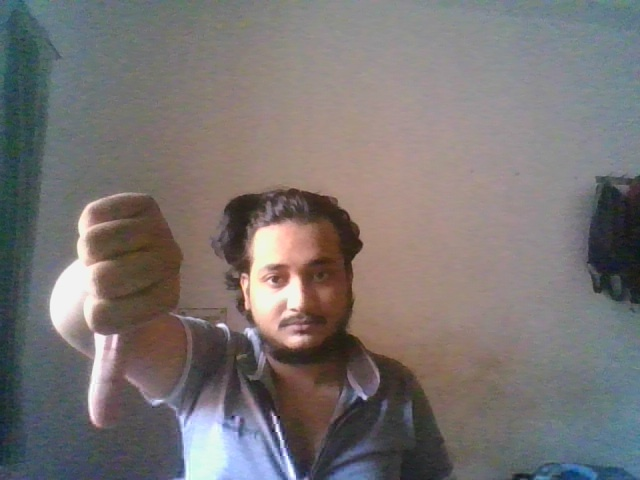ThumbsDown: (74, 191, 184, 431)
